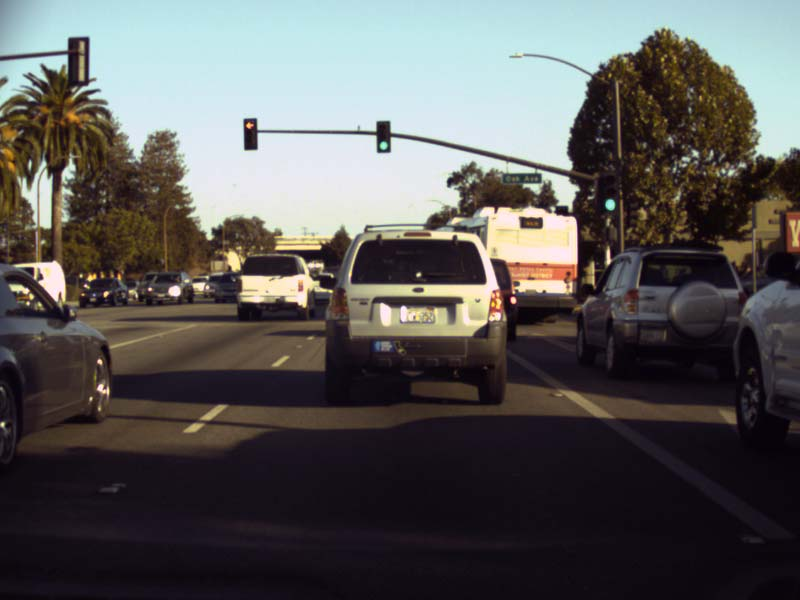Green: (600, 171, 617, 212), (376, 120, 390, 152)
Red: (243, 118, 257, 149)
